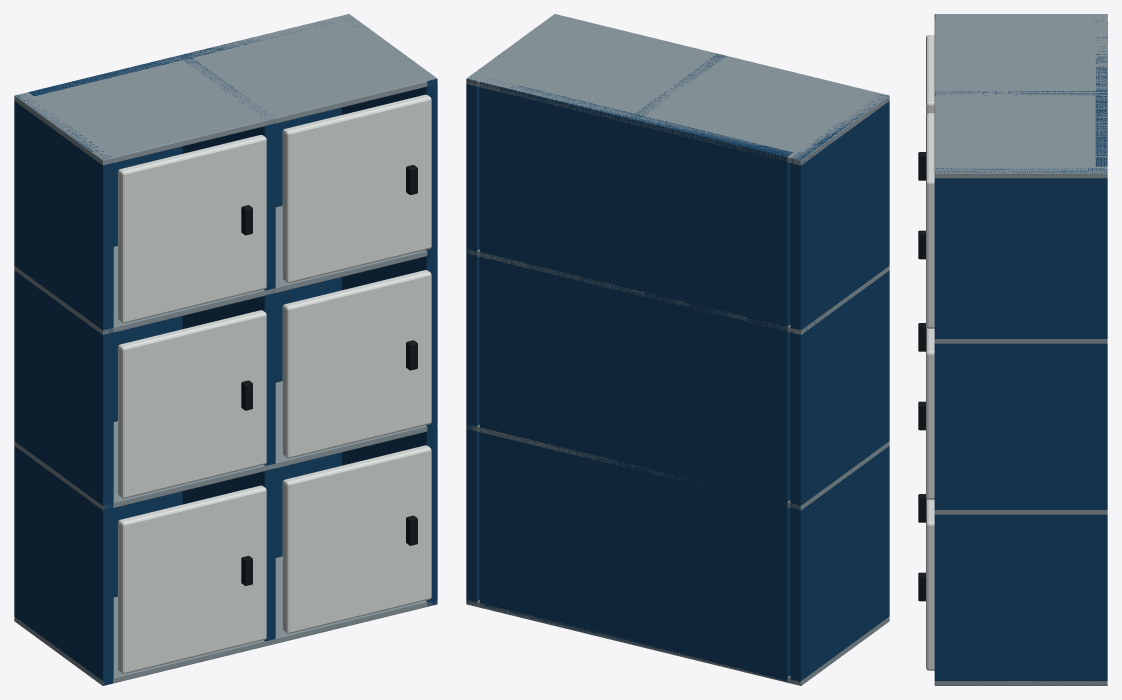
The model's file is edited.glb.
The picture shows the model from 3 angles, left to right: view 1: azimuth 30°, elevation 25°; view 2: azimuth 150°, elevation 25°; view 3: azimuth 270°, elevation 25°; orthographic projection. The views are drawn at different scales.
Parts seen in each view (by area): view 1: FRAME_Upright, FRAME_Shelf.003, LOCKER_Door.005, LOCKER_Door.003, LOCKER_Door.004, LOCKER_Door.001, LOCKER_Door.002, LOCKER_Door, FRAME_Back, FRAME_Upright.001, FRAME_Upright.002, FRAME_Shelf (+2 smaller); view 2: FRAME_Back, FRAME_Upright, FRAME_Shelf.003, FRAME_Upright.002, FRAME_Shelf, FRAME_Upright.001, FRAME_Shelf.002, FRAME_Shelf.001; view 3: FRAME_Upright.002, FRAME_Shelf.003, LOCKER_Door.005, LOCKER_Door.003, LOCKER_Door.004, FRAME_Back, FRAME_Shelf, FRAME_Shelf.001, FRAME_Shelf.002, LOCKER_Door.002, FRAME_Upright.001.
Boxes of the visible parts, bbox=[...] form: FRAME_Upright: bbox=[14, 94, 113, 685]; FRAME_Shelf.003: bbox=[14, 14, 437, 165]; LOCKER_Door.005: bbox=[282, 94, 431, 283]; LOCKER_Door.003: bbox=[282, 445, 431, 633]; LOCKER_Door.004: bbox=[282, 270, 431, 458]; LOCKER_Door.001: bbox=[118, 310, 266, 498]; LOCKER_Door.002: bbox=[118, 135, 266, 323]; LOCKER_Door: bbox=[118, 485, 266, 673]; FRAME_Back: bbox=[28, 20, 341, 597]; FRAME_Upright.001: bbox=[178, 54, 275, 641]; FRAME_Upright.002: bbox=[342, 14, 437, 606]; FRAME_Shelf: bbox=[14, 556, 437, 685]; FRAME_Back: bbox=[479, 78, 792, 682]; FRAME_Upright: bbox=[790, 94, 889, 682]; FRAME_Shelf.003: bbox=[466, 14, 889, 165]; FRAME_Upright.002: bbox=[466, 52, 505, 605]; FRAME_Shelf: bbox=[466, 599, 889, 685]; FRAME_Upright.001: bbox=[628, 54, 726, 510]; FRAME_Shelf.002: bbox=[466, 249, 889, 334]; FRAME_Shelf.001: bbox=[466, 424, 889, 510]; FRAME_Upright.002: bbox=[934, 168, 1107, 681]; FRAME_Shelf.003: bbox=[934, 14, 1107, 178]; LOCKER_Door.005: bbox=[926, 113, 934, 328]; LOCKER_Door.003: bbox=[926, 497, 934, 670]; LOCKER_Door.004: bbox=[926, 326, 934, 499]; FRAME_Back: bbox=[1095, 20, 1107, 166]; FRAME_Shelf: bbox=[934, 681, 1107, 685]; FRAME_Shelf.001: bbox=[934, 510, 1107, 514]; FRAME_Shelf.002: bbox=[934, 339, 1107, 343]; LOCKER_Door.002: bbox=[926, 35, 934, 115]; FRAME_Upright.001: bbox=[934, 91, 1107, 95].
Size of the model in its own units: 1.2 by 1.8 by 0.6025.
